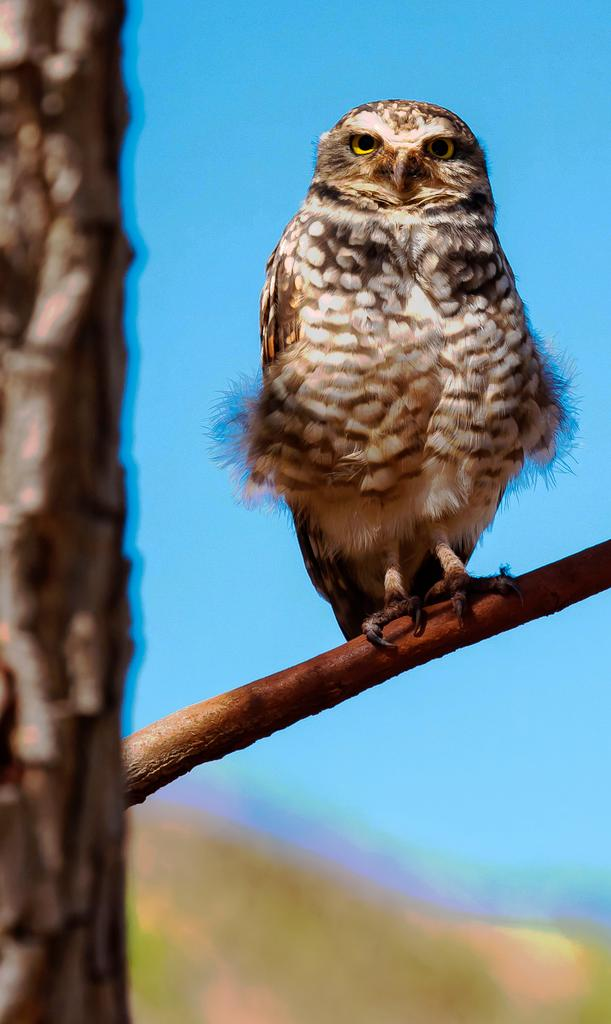Owl: (213, 95, 571, 663)
